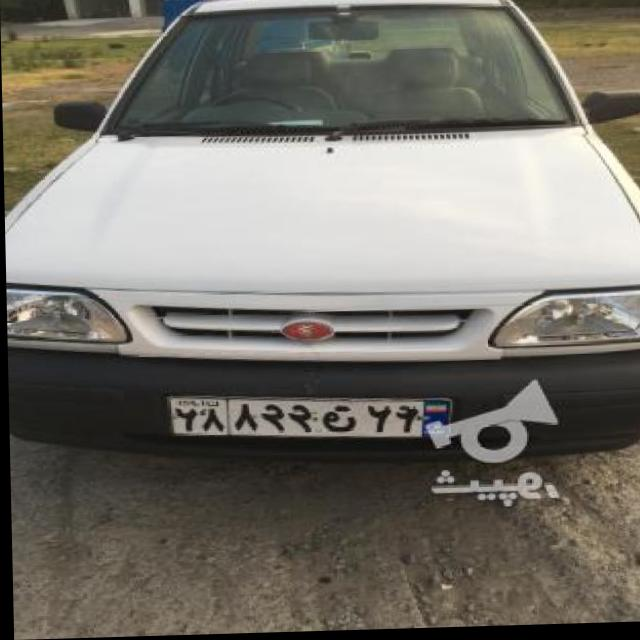licence: (165, 389, 451, 455)
